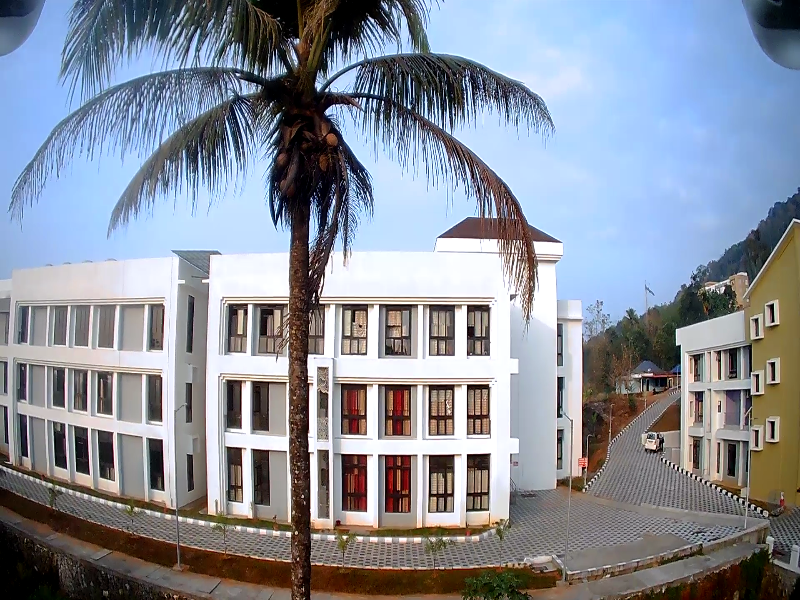coconut: (321, 127, 341, 153), (311, 154, 335, 173), (278, 178, 295, 195), (275, 153, 291, 169)
